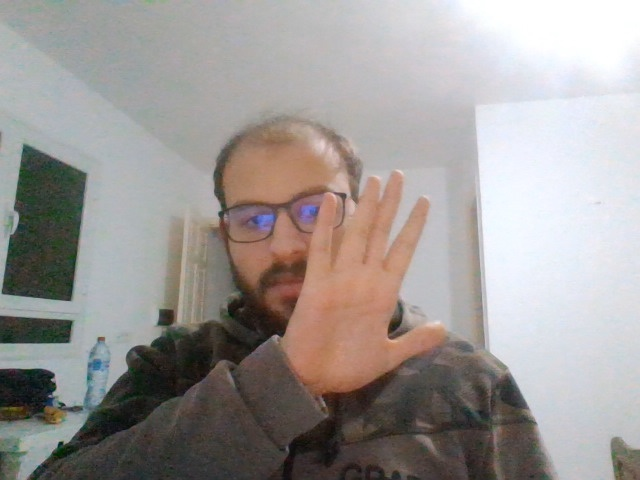Hello: (299, 174, 443, 386)
